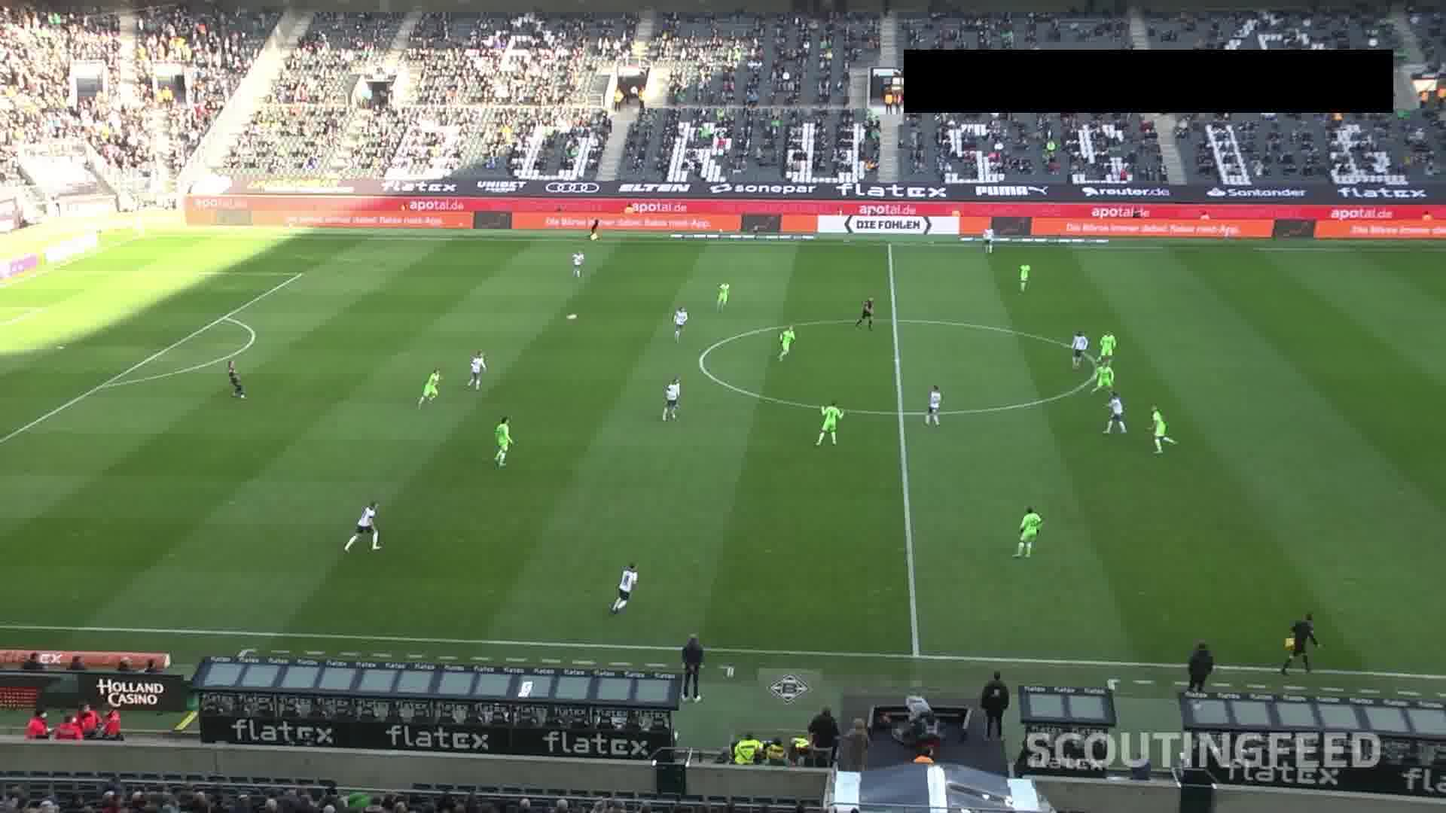ball: (560, 304, 582, 327)
coach_staff: (968, 662, 1026, 738), (673, 620, 712, 710), (1169, 637, 1220, 704)
goalkeeper: (218, 361, 255, 408)
player: (340, 502, 385, 555), (810, 395, 850, 454), (1008, 502, 1046, 562), (1141, 401, 1174, 463), (606, 562, 641, 616), (483, 417, 518, 469), (655, 374, 687, 420), (1102, 391, 1128, 445), (919, 385, 953, 424), (769, 321, 801, 361), (415, 363, 443, 406), (1096, 329, 1126, 368), (1008, 258, 1039, 295), (707, 270, 732, 314), (973, 226, 1005, 255), (1069, 322, 1088, 369), (669, 302, 690, 343), (469, 349, 488, 394), (1092, 363, 1116, 398), (565, 247, 591, 279)
referee: (1274, 610, 1324, 671), (855, 289, 880, 334), (582, 211, 606, 245)
